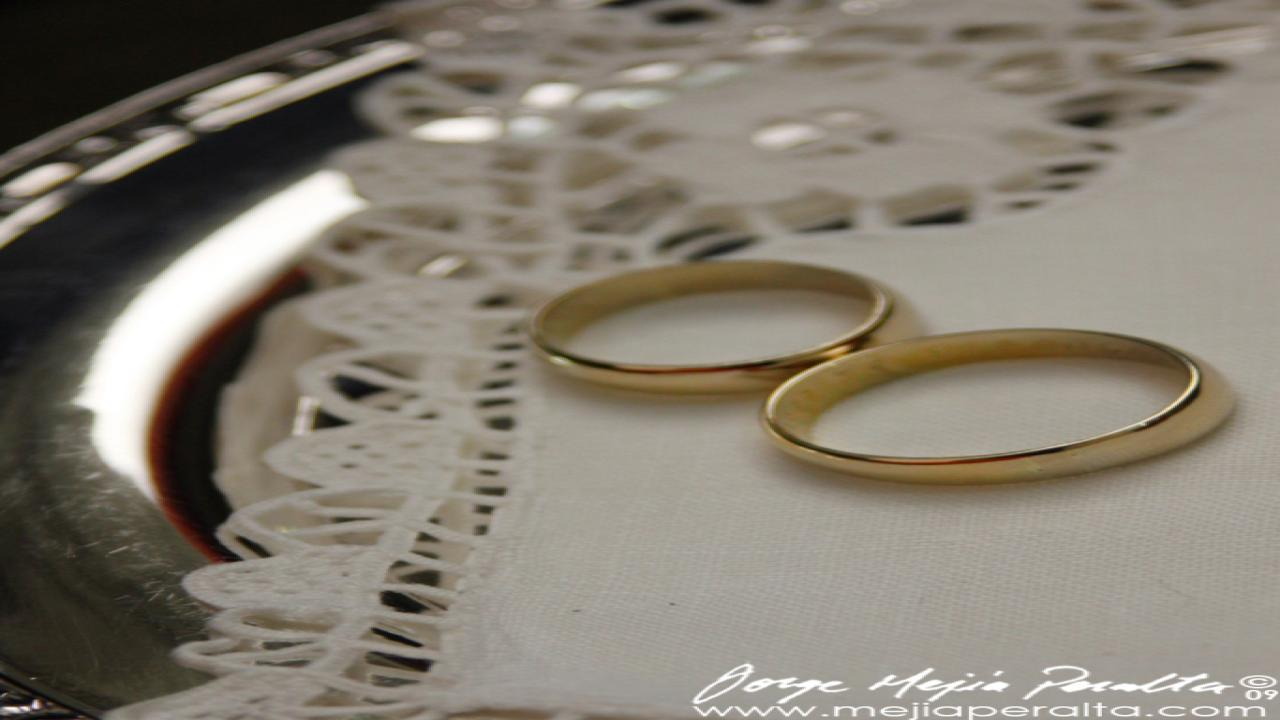ring: (758, 326, 1237, 486), (517, 256, 934, 398)
